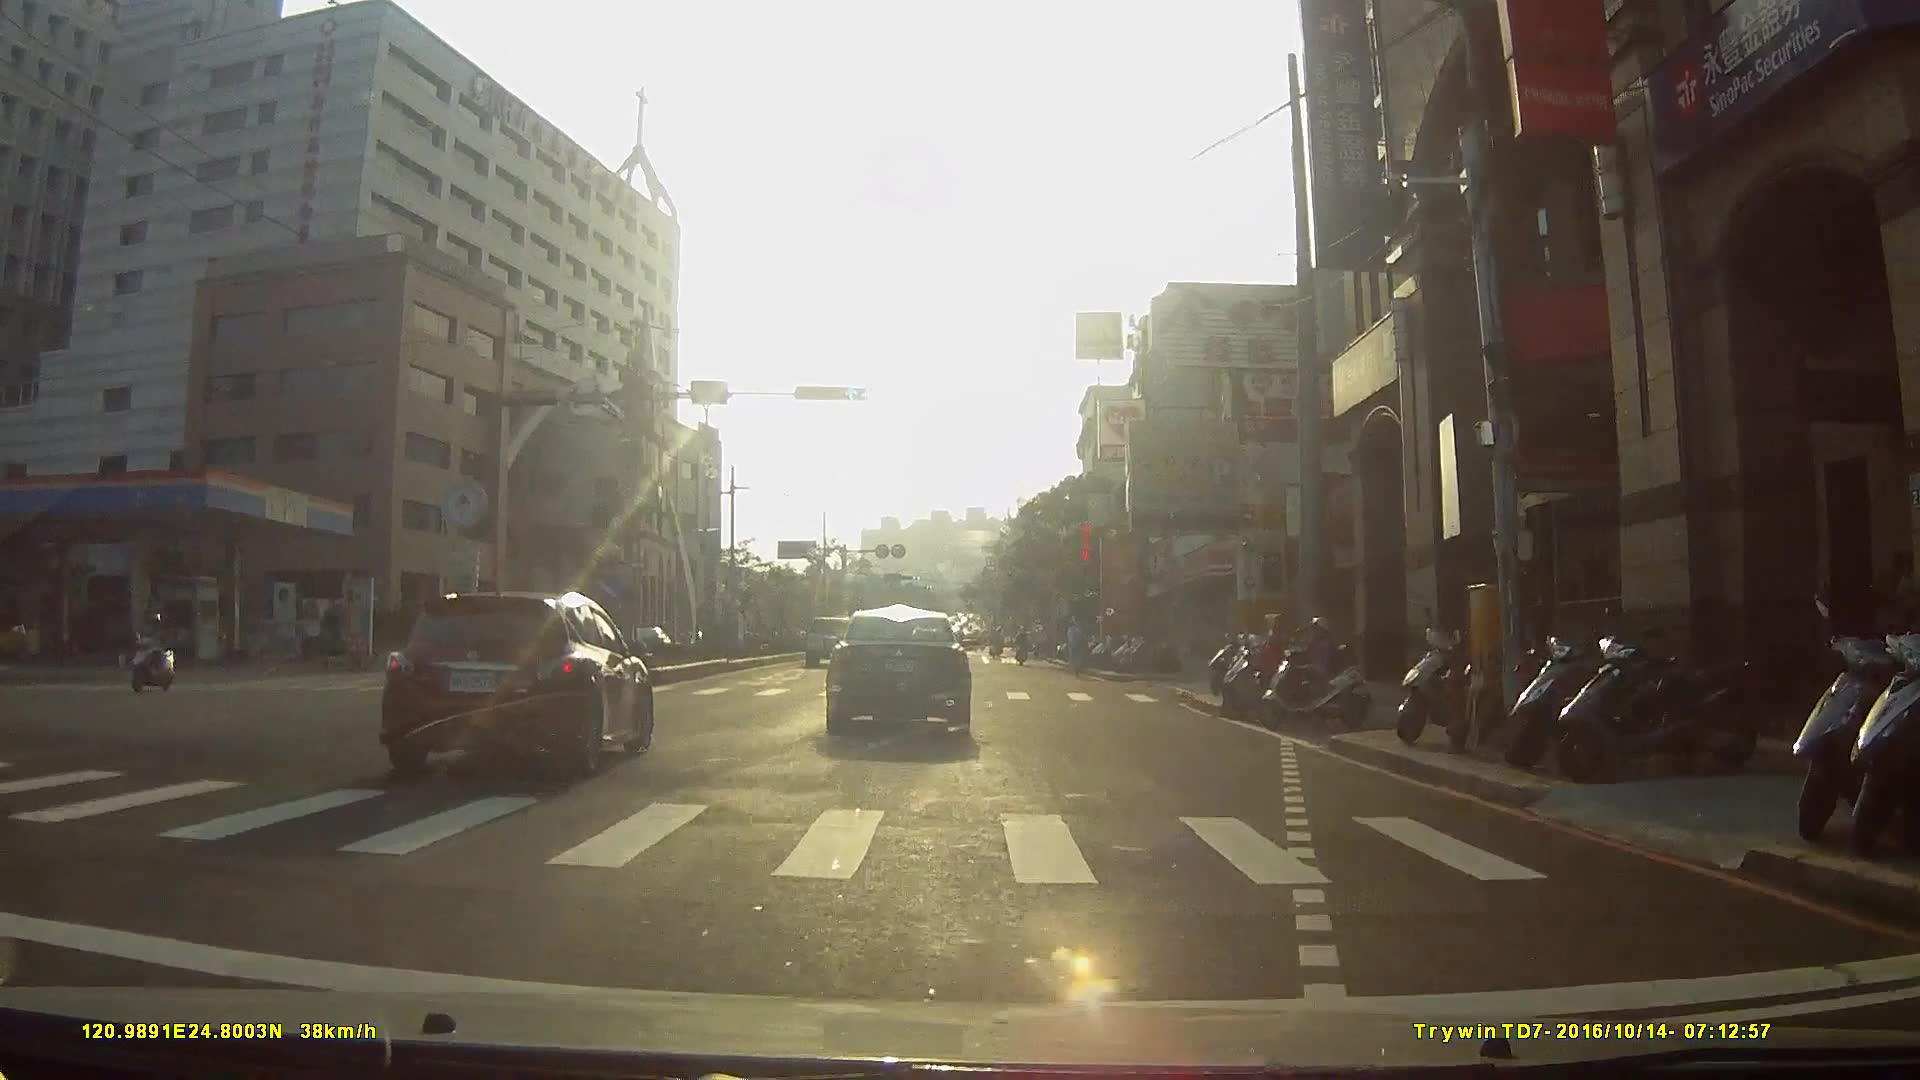rider: (1252, 614, 1375, 739), (1216, 613, 1319, 723), (127, 610, 176, 692)
vehicle: (380, 584, 669, 783), (827, 604, 987, 746), (809, 611, 868, 666)
